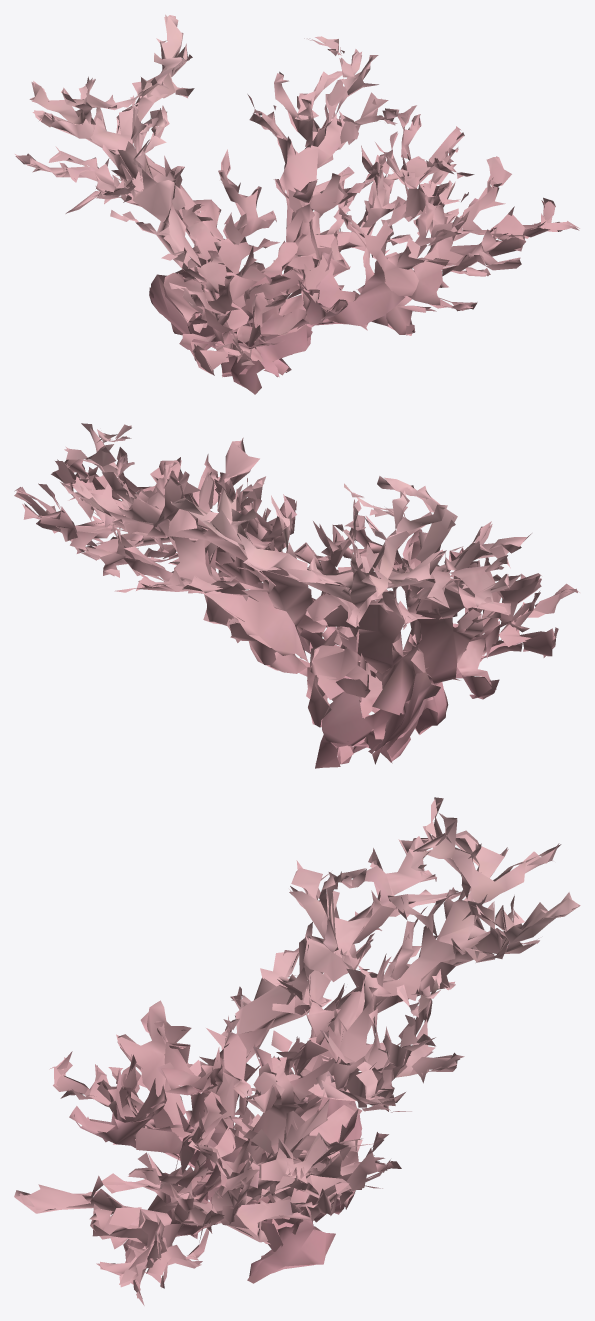
Rendered from pocillopora.glb.
3 views of the same model, one above another, from view 1: azimuth 30°, elevation 25°; view 2: azimuth 150°, elevation 25°; view 3: azimuth 270°, elevation 25° (orthographic). The views are drawn at different scales.
Parts seen in each view (by area): view 1: pocillopora_near; view 2: pocillopora_near; view 3: pocillopora_near.
Boxes of the visible parts, box(x1,y1,x2,y2) form: pocillopora_near: box(15, 14, 579, 394); pocillopora_near: box(14, 423, 579, 768); pocillopora_near: box(14, 797, 580, 1305).
Bounding box in the file's own units: 0.2176 × 0.1273 × 0.1692.
Materials: 1 (1 with a texture image).
